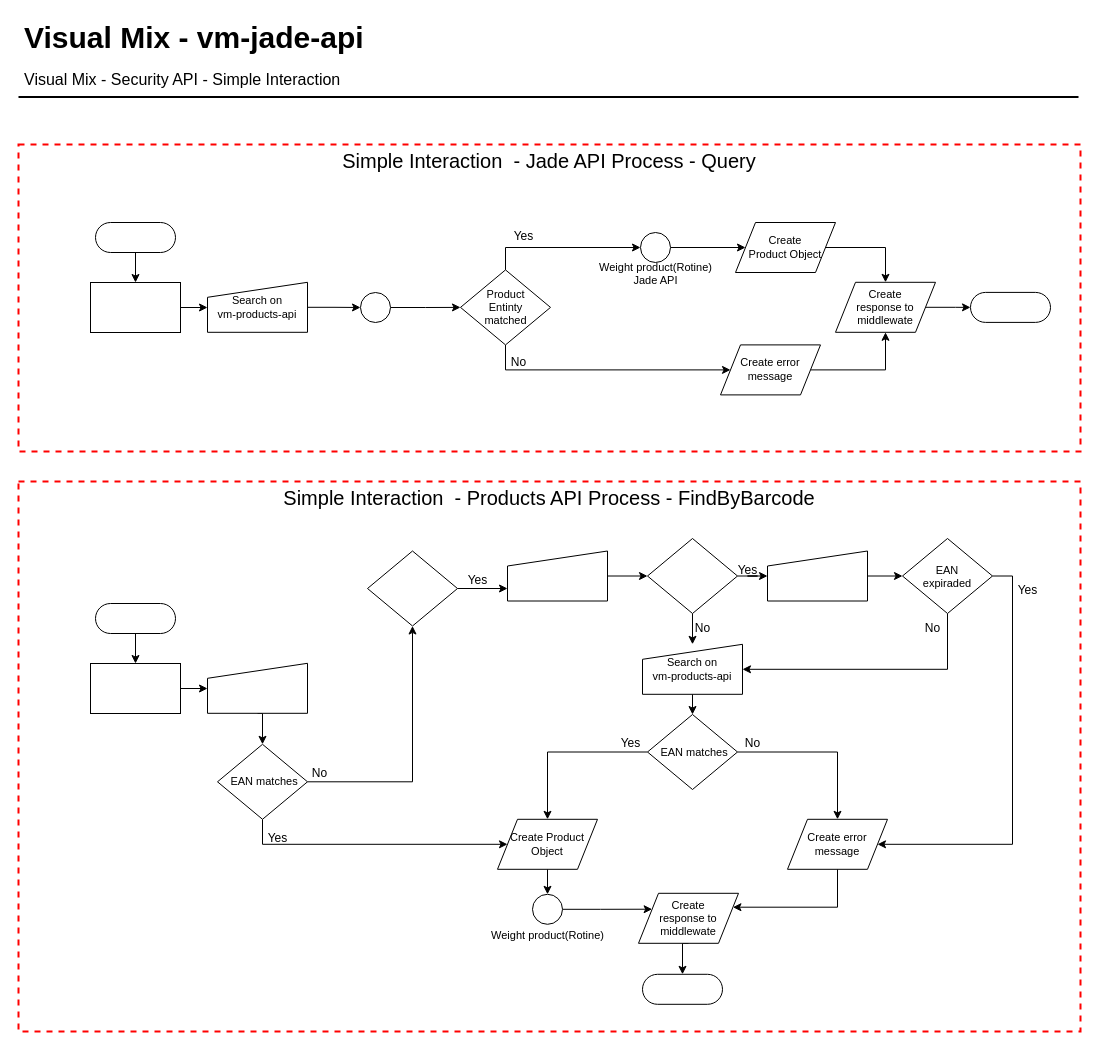
The diagram is 1098 pixels wide and 1050 high, and some of its shapes have lost their labels. Each missing label, with the centre of its shape:
API receives EAN from API: point (135, 688)
API receives EAN from middleware: point (135, 307)
EAN first digit equals 2: point (412, 588)
EAN length is equals 22: point (692, 576)
Read expiration date, position z to w: point (817, 575)
Read internal EAN position, x to y: point (557, 575)
Search on DB: point (257, 687)
vm-products-api(Rotine) FindByBarCode: point (375, 307)
